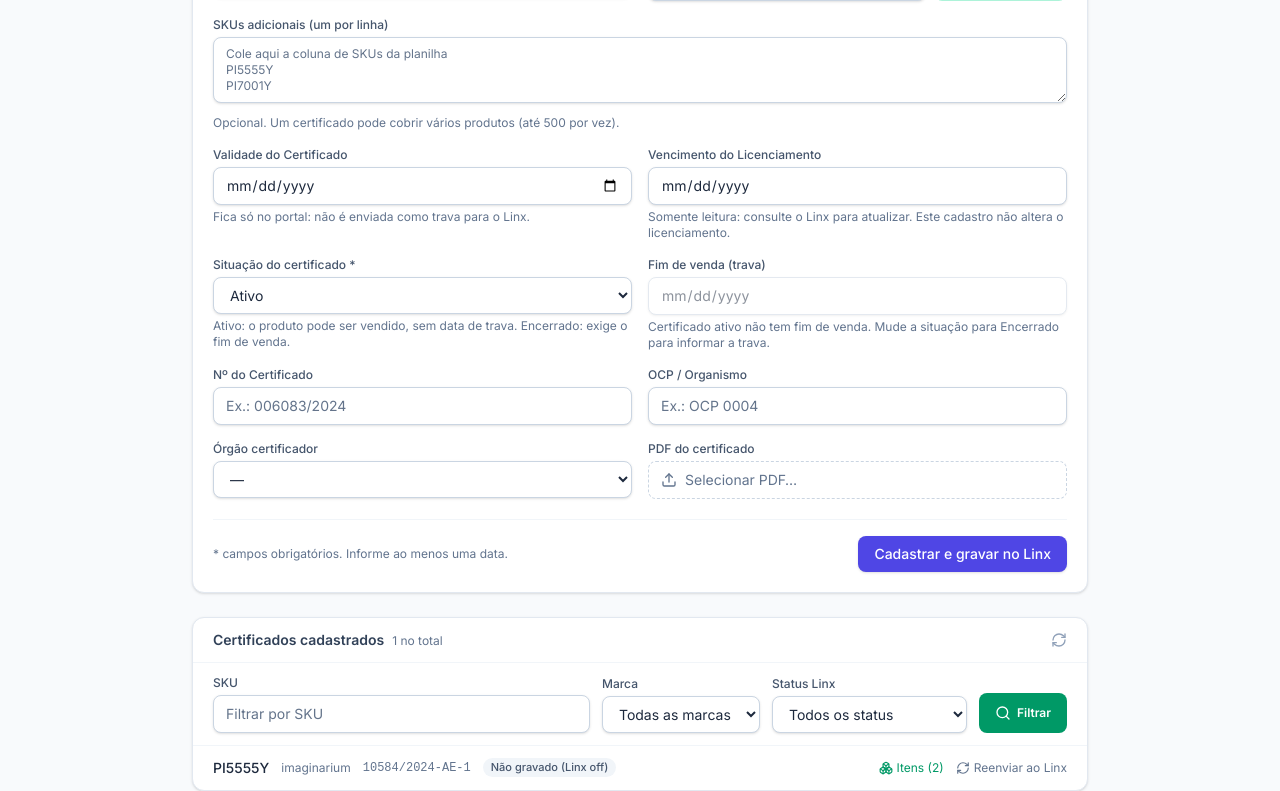
Scenario: CertCadastroPage — fim de venda e itens (D11) › remove um item pelo botao da lixeira
The width and height of the screenshot is (1280, 791).
(page scrolled)
Click the button "Itens (2)" at (911, 768), box x1=878 y1=760 x2=944 y2=776
(page scrolled)
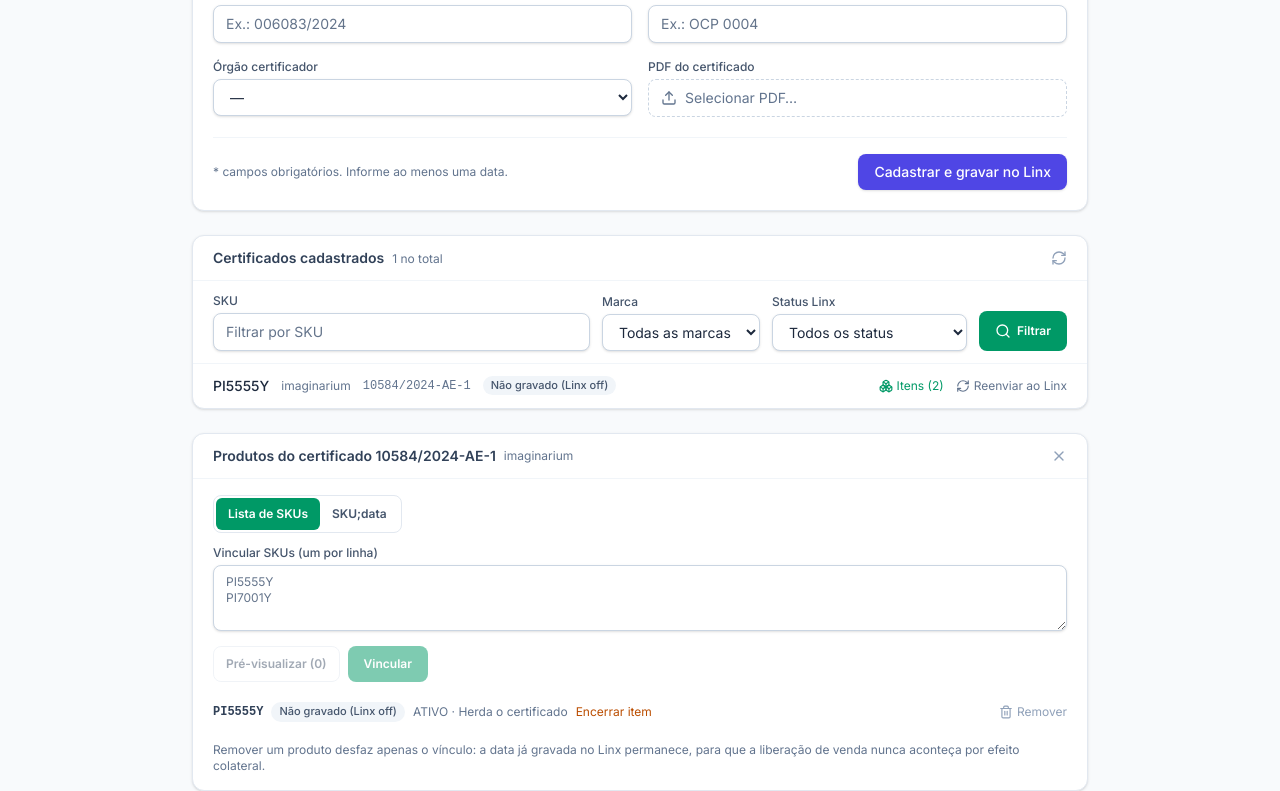
Click the button with aria-label "Remover PI5555Y do certificado" at (1033, 712), box x1=999 y1=704 x2=1067 y2=720
(page scrolled)
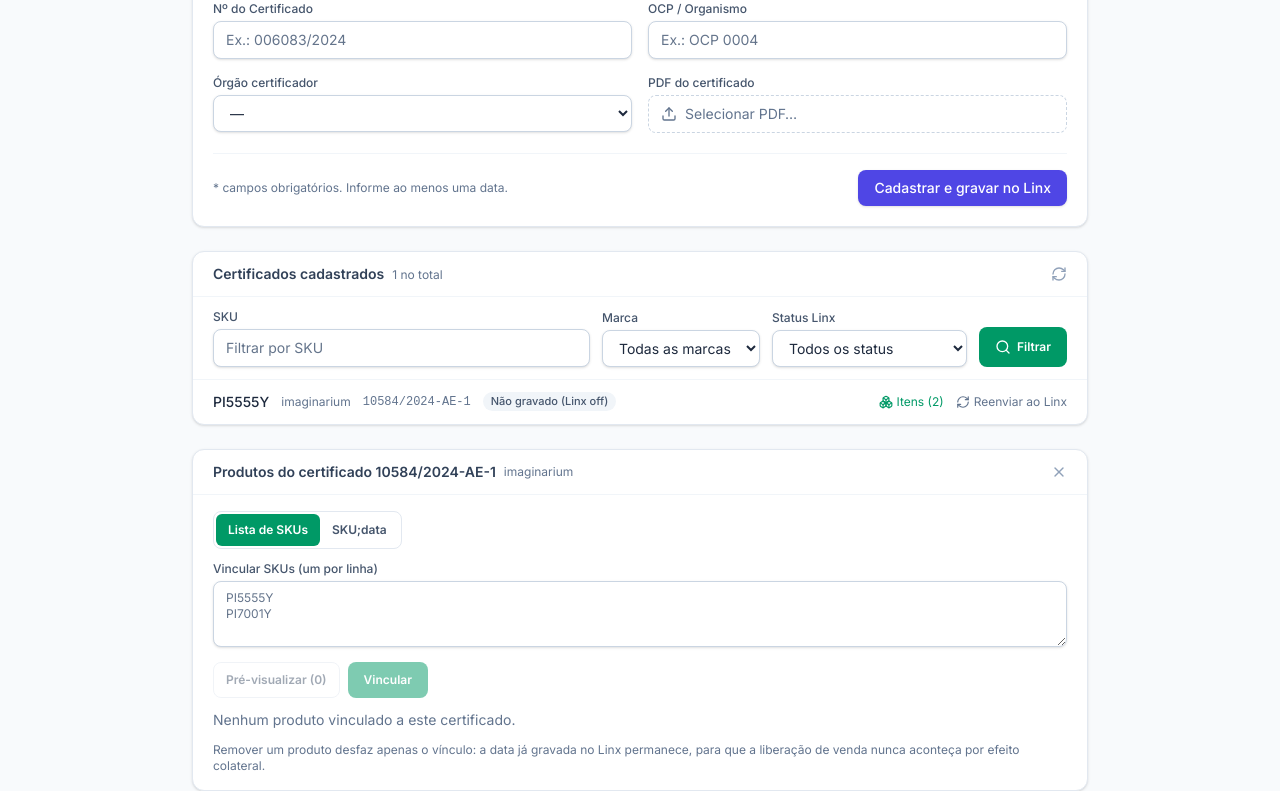
Result: the text "Nenhum produto vinculado a este certificado." is shown at x1=213 y1=711 x2=515 y2=728
